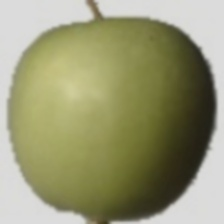apple: (14, 37, 178, 199)
